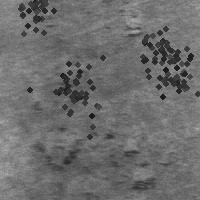rolled-in_scale: (35, 129, 174, 188), (28, 46, 116, 134), (115, 12, 191, 88), (133, 30, 200, 112), (5, 0, 61, 33), (117, 12, 146, 42)
